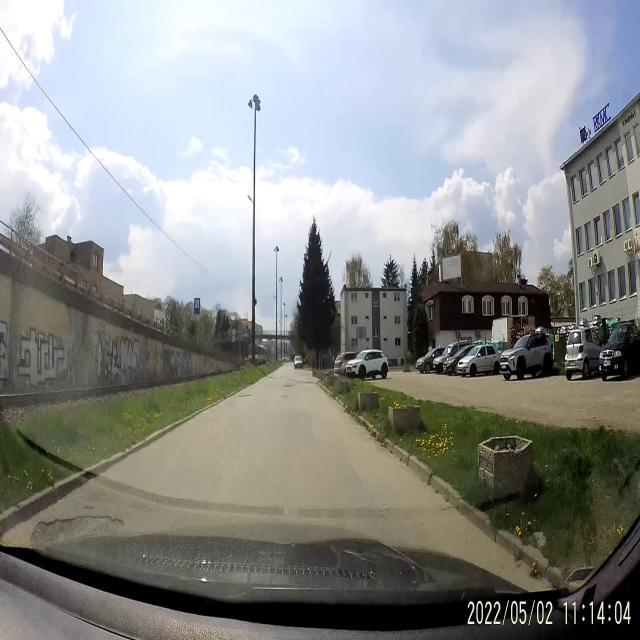Pothole: (32, 506, 126, 550), (287, 378, 317, 388), (232, 393, 255, 401), (280, 382, 296, 389), (264, 374, 278, 382), (278, 392, 289, 400)
